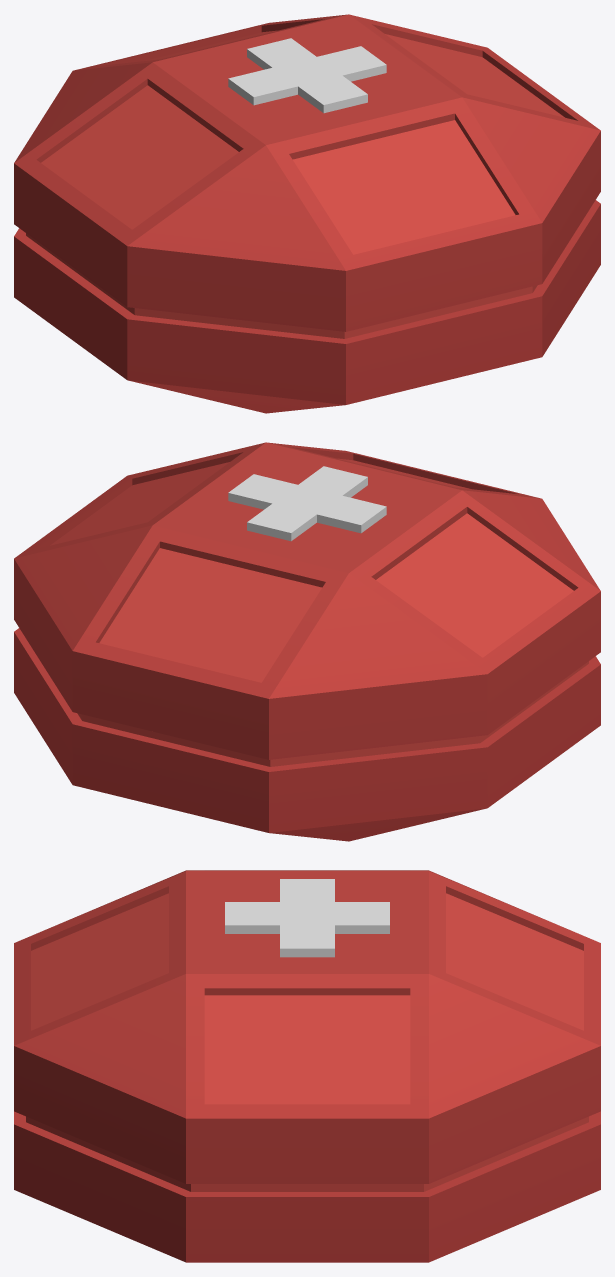
The model's file is Healthpack_01.fbx.
The picture shows the model from 3 angles, top to bottom: view 1: azimuth 30°, elevation 25°; view 2: azimuth 150°, elevation 25°; view 3: azimuth 270°, elevation 25°; orthographic projection. The views are drawn at different scales.
Visible parts, largest first — view 1: Healthpack_01; view 2: Healthpack_01; view 3: Healthpack_01.
Part boxes in pixels (<box>): Healthpack_01: <box>14,14,600,413</box>; Healthpack_01: <box>14,442,600,841</box>; Healthpack_01: <box>14,870,600,1262</box>.
Bounding box in the file's own units: 0.4478 × 0.2571 × 0.4478.
